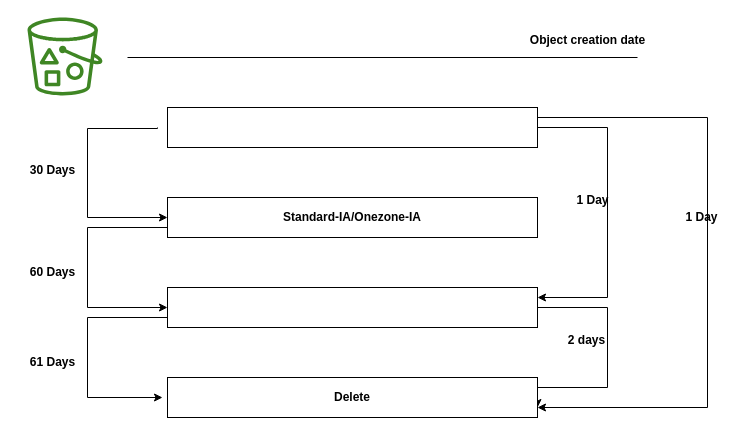
This 748x435 diagram has some shape labels left out. Each missing label, with the centre of its shape:
Glacier/IR/DA: the point at 352,307
S3 Standard: the point at 352,127
